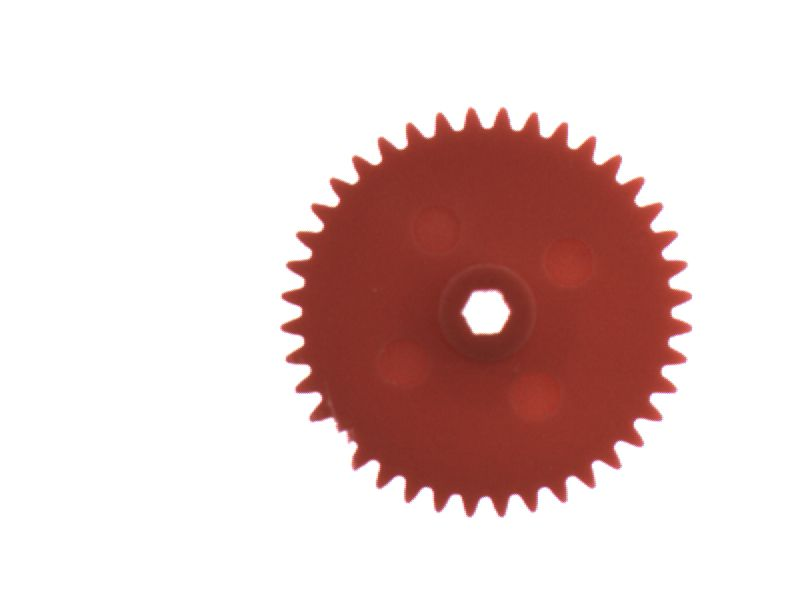defect_lack: (312, 413, 362, 470)
